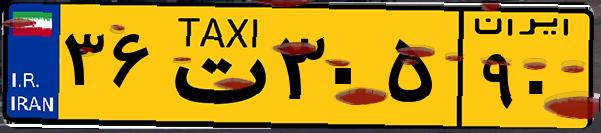0: (330, 28, 385, 110), (525, 38, 570, 115)
3: (270, 28, 330, 110), (57, 26, 110, 100)
5: (385, 28, 445, 110)
6: (110, 28, 158, 98)
9: (475, 38, 525, 113)
ت: (158, 12, 270, 120)
